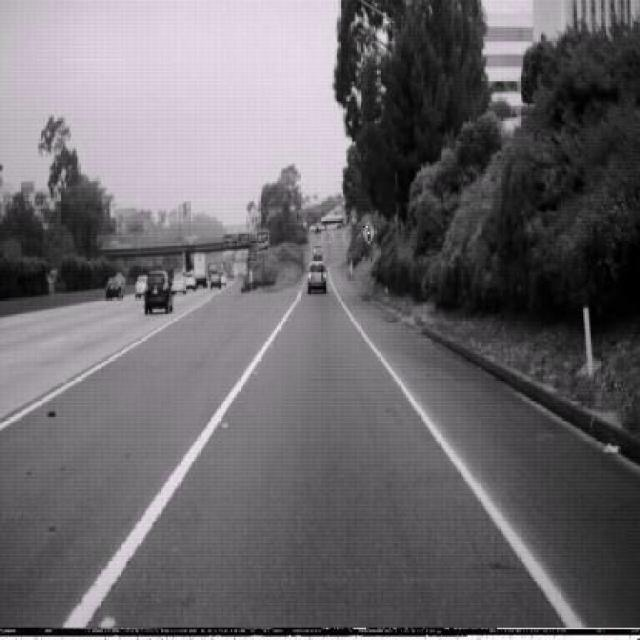signalAhead: (363, 217, 379, 246)
